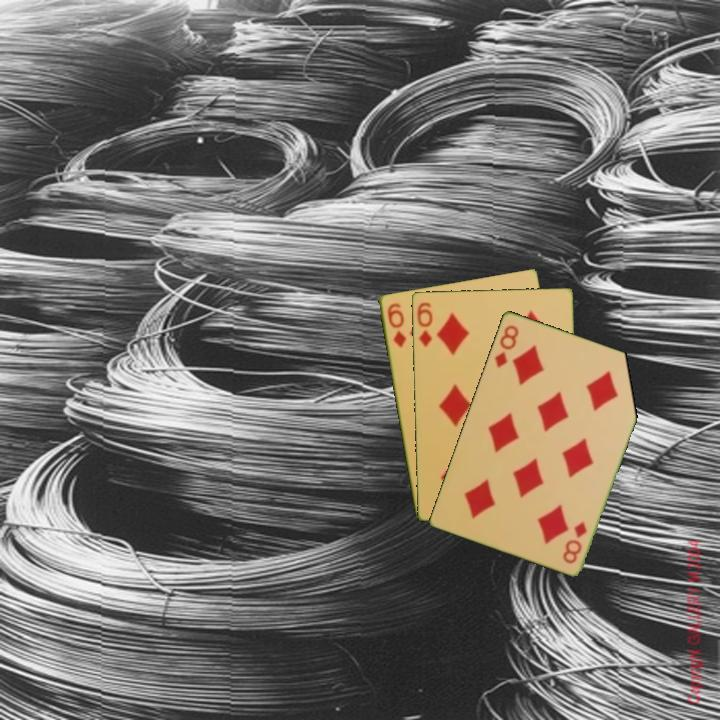6d: (384, 299, 409, 350), (413, 298, 435, 350)
8d: (491, 321, 521, 371), (559, 518, 590, 566)
